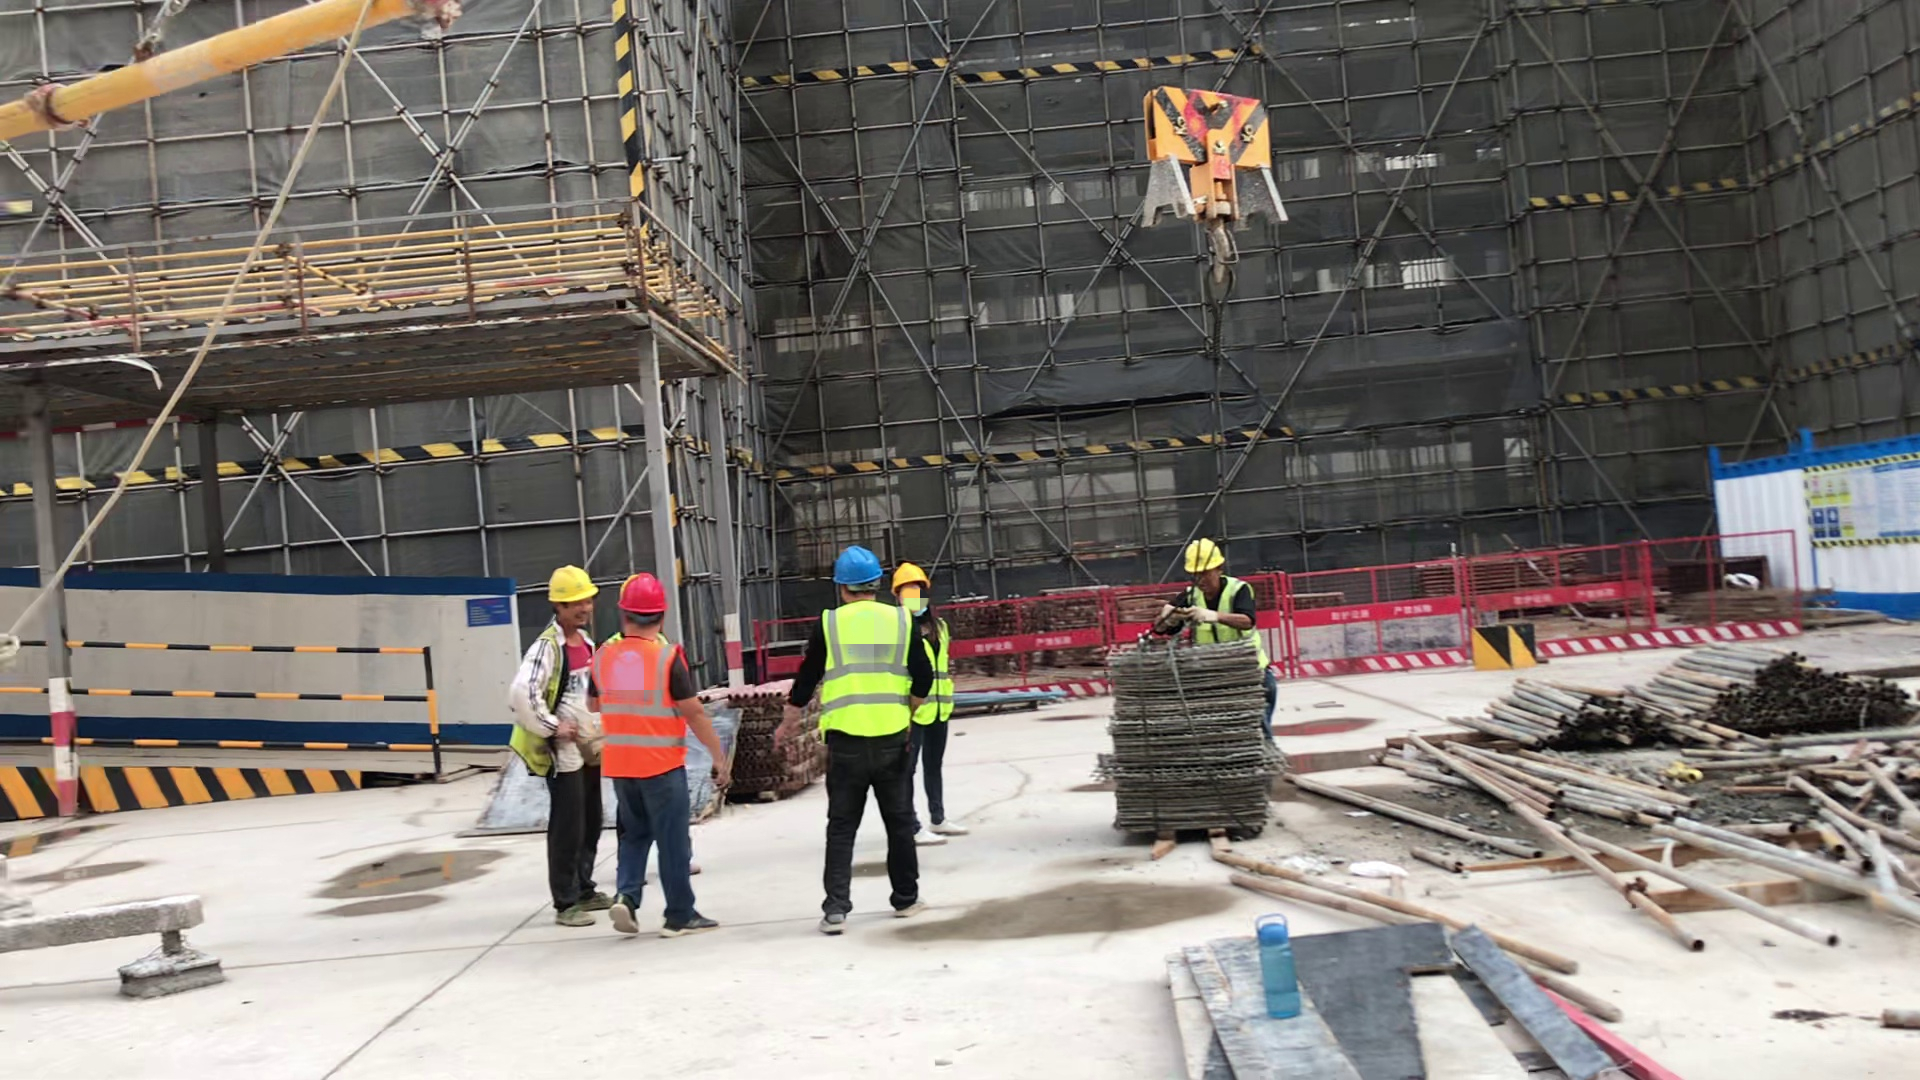fence: (956, 529, 1806, 712)
helmet: (543, 565, 597, 603), (616, 576, 667, 614), (835, 549, 882, 585), (1178, 538, 1225, 574), (888, 562, 929, 591)
hook: (1133, 81, 1290, 284)
person: (777, 546, 935, 934), (597, 574, 717, 937), (509, 566, 618, 929), (1156, 539, 1277, 780), (886, 562, 970, 848)
scaffold: (1124, 649, 1263, 835), (736, 680, 813, 793)
vest: (592, 641, 688, 780), (817, 600, 917, 735), (817, 601, 912, 738), (597, 639, 690, 779), (1188, 580, 1267, 674), (1182, 583, 1254, 651), (908, 618, 955, 724), (912, 616, 954, 726)
